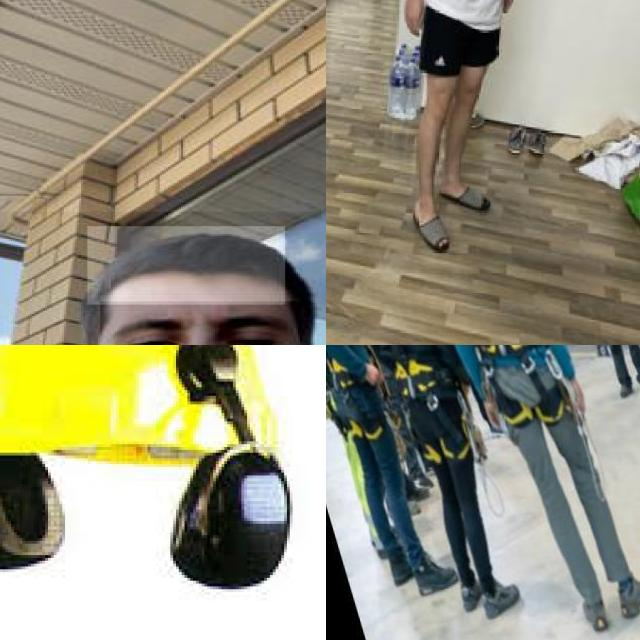Ear-protection: (163, 345, 297, 593), (0, 406, 74, 575)
No_Glasses: (103, 294, 289, 345)
Sandals: (402, 187, 456, 266), (431, 178, 497, 228)
face_nomask: (100, 301, 302, 345)
head_nohelmet: (88, 226, 285, 305)
person: (0, 211, 326, 345)
